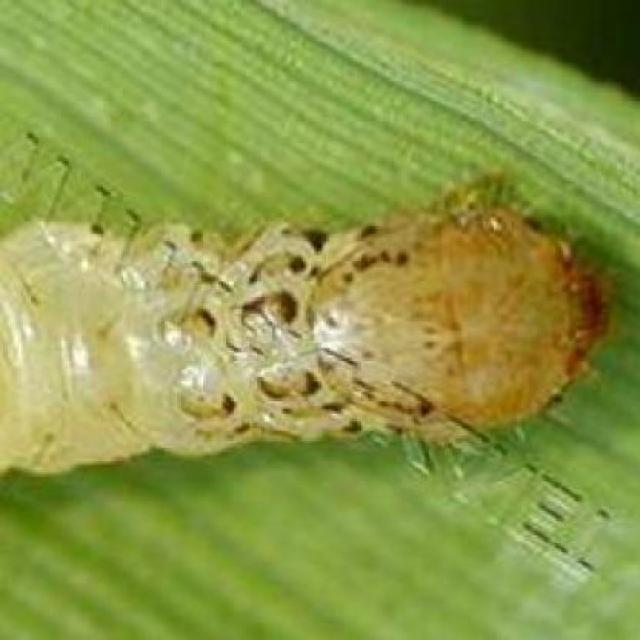leaf-folder: (4, 166, 622, 509)
